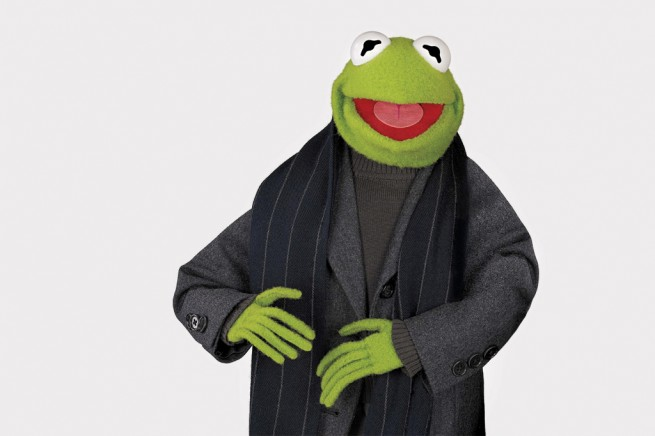kermit: (325, 28, 467, 170)
